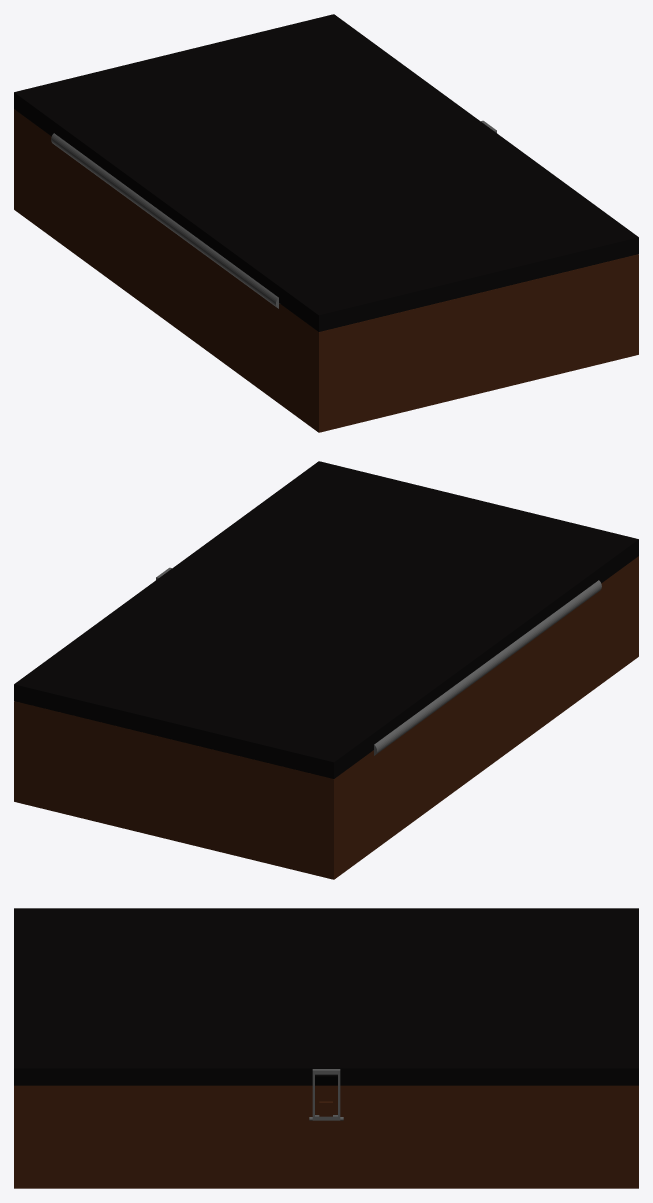
File: briefcase.fbx
3 renders of one model, top to bottom at view 1: azimuth 30°, elevation 25°; view 2: azimuth 150°, elevation 25°; view 3: azimuth 270°, elevation 25°, orthographic. The views are drawn at different scales.
Visible parts, largest first — view 1: Cube.001, Cube-col, Cylinder; view 2: Cube.001, Cube-col, Cylinder; view 3: Cube.001, Cube-col, Cube.002.
Part boxes in pixels (bbox=[...]): Cube.001: bbox=[14, 14, 638, 331]; Cube-col: bbox=[14, 109, 638, 432]; Cylinder: bbox=[51, 133, 279, 308]; Cube.001: bbox=[14, 461, 638, 778]; Cube-col: bbox=[14, 556, 638, 879]; Cylinder: bbox=[373, 580, 601, 755]; Cube.001: bbox=[14, 908, 638, 1085]; Cube-col: bbox=[14, 1085, 638, 1188]; Cube.002: bbox=[312, 1069, 340, 1120].
Size of the model in its own units: 205 by 70.14 by 330.
